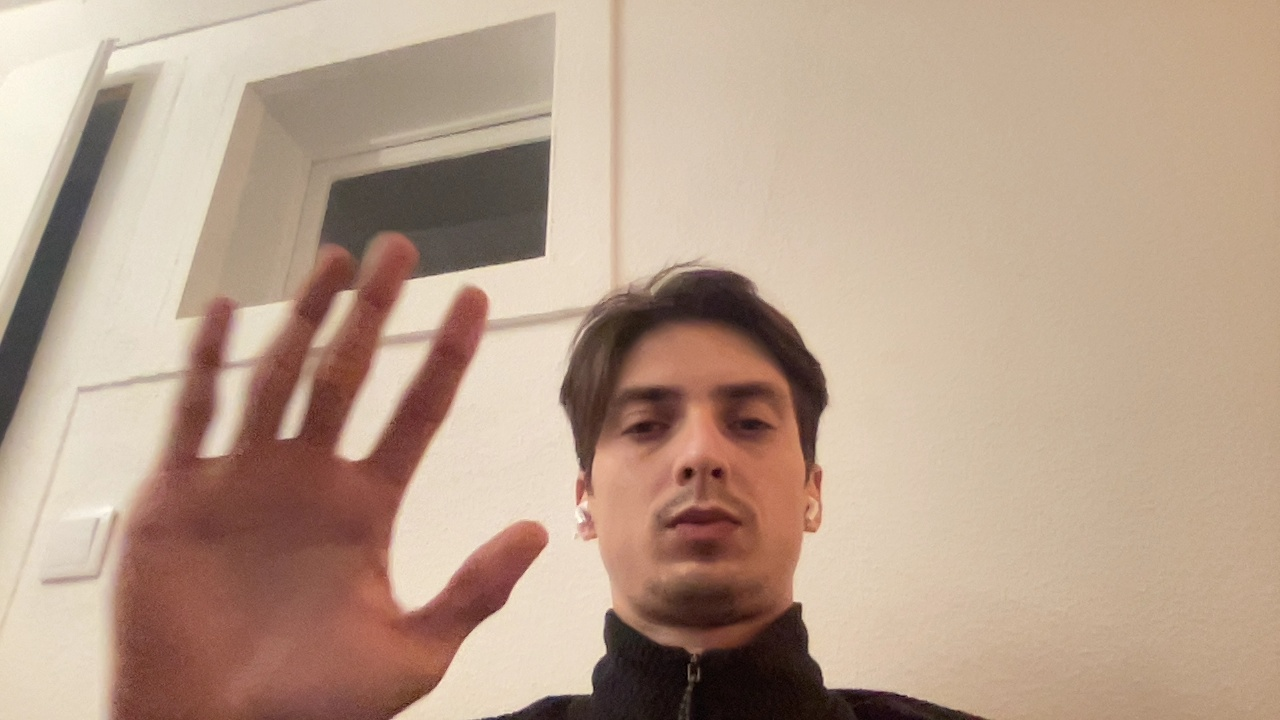Hello: (53, 151, 574, 720)
